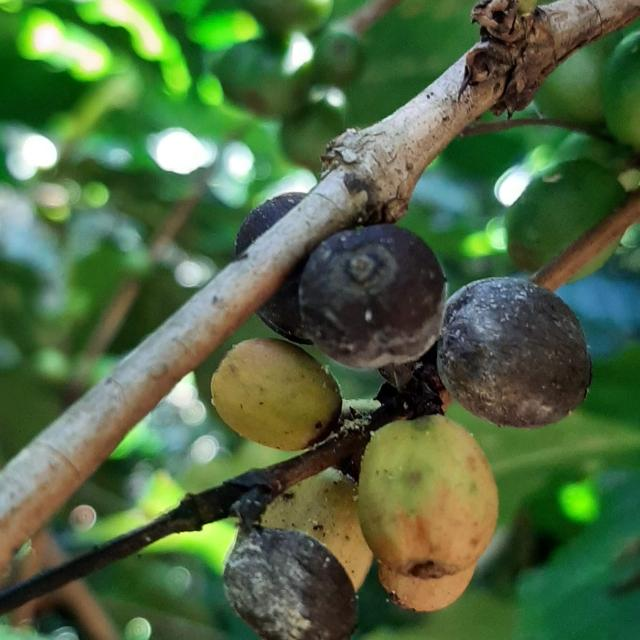green: (359, 416, 499, 575), (211, 339, 342, 452), (261, 469, 373, 592), (379, 565, 476, 613)
red: (438, 277, 593, 429), (299, 224, 446, 369), (223, 528, 356, 640), (256, 257, 312, 344), (234, 192, 305, 259)
